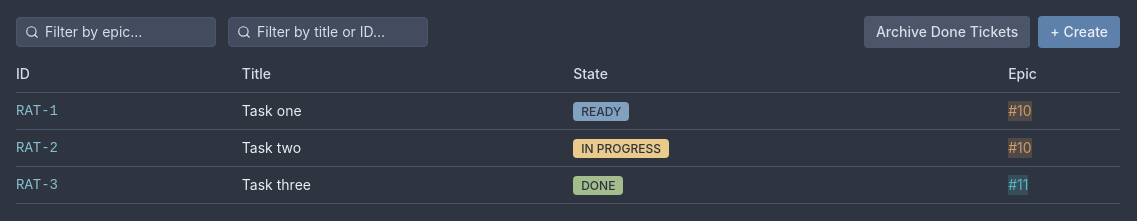
Test: TicketsTab › should intersect epic filter and title/ID filter when both are active
Select epic one first
Type "one" into the field labelled "Filter by epic…" at (127, 32), box [39,18,215,46]
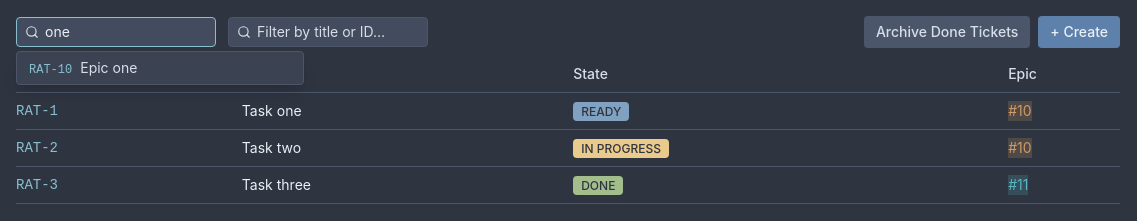
Now narrow by title containing "two"
Type "two" into the field labelled "Filter by title or ID…" at (339, 32), box [251,18,427,46]
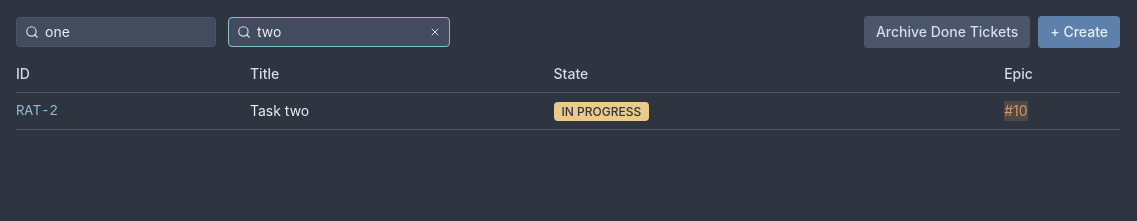
Check: the text "RAT-2" is shown, box [16,92,250,130]
Check: the button "RAT-1" is gone
Check: the text "RAT-3" is gone
